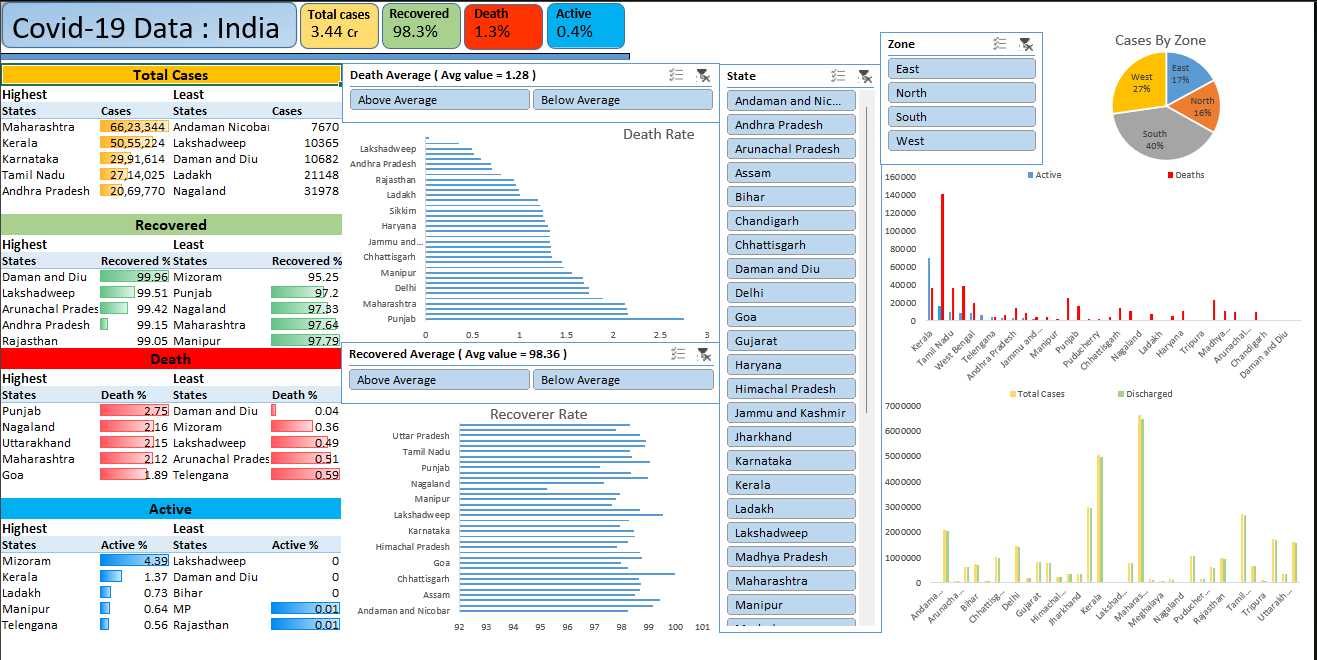

The dashboard page shown, as its layout file describes it:
{"tool":"powerbi","page":{"name":"Page 1","canvas":[1280,720],"ordinal":0},"visuals":[{"type":"cardVisual","fields":{"Data":["Sum(Covid Dataset.Total Cases)"]},"box":[0,70.1,210.4,106],"z":0},{"type":"cardVisual","fields":{"Data":["Sum(Covid Dataset.Active)"]},"box":[210.4,70.1,209,106],"z":1000},{"type":"cardVisual","fields":{"Data":["Sum(Covid Dataset.Discharged)"]},"box":[419.4,70.1,210.4,106],"z":2000},{"type":"cardVisual","fields":{"Data":["Sum(Covid Dataset.Deaths)"]},"box":[629.9,70.1,210.4,106],"z":3000},{"type":"clusteredBarChart","fields":{"Category":["Covid Dataset.State/UTs"],"Y":["Sum(Covid Dataset.Total Cases)"]},"box":[410.4,376.1,429.9,343.3],"z":4000},{"type":"pieChart","fields":{"Category":["Covid Dataset.Zone"],"Y":["Sum(Covid Dataset.Total Cases)"]},"box":[0,176.1,410.4,200],"z":5000},{"type":"barChart","fields":{"Category":["Covid Dataset.State/UTs"],"Y":["Sum(Covid Dataset.Deaths)"]},"box":[0,376.1,410.4,343.3],"z":6000},{"type":"scatterChart","fields":{"Series":["Covid Dataset.State/UTs"],"Size":["Sum(Covid Dataset.Deaths)"],"X":["Sum(Covid Dataset.Population)"],"Y":["Sum(Covid Dataset.Total Cases)"]},"box":[840.3,70.1,440.3,306],"z":7000},{"type":"slicer","fields":{"Values":["Covid Dataset.Zone"]},"box":[658.2,176.1,182.1,200],"z":8000},{"type":"slicer","fields":{"Values":["Covid Dataset.State/UTs"]},"box":[410.4,176.1,247.8,200],"z":9000},{"type":"textbox","box":[0,0,1280.6,70.1],"z":10000},{"type":"clusteredBarChart","fields":{"Category":["Covid Dataset.State/UTs"],"Y":["Sum(Covid Dataset.Discharged)"]},"box":[840.3,376.1,440.3,343.3],"z":10001}]}

Visuals, with their boxes on the page's 1280x720 design canvas (x1, y1, x2, y2). These are canvas units, not pixel positions in the 1317x660 screenshot, which may show the page scaled, cropped or inside an application window:
cardVisual - Sum(Covid Dataset.Total Cases): BBox(0, 70, 210, 176)
cardVisual - Sum(Covid Dataset.Active): BBox(210, 70, 419, 176)
cardVisual - Sum(Covid Dataset.Discharged): BBox(419, 70, 630, 176)
cardVisual - Sum(Covid Dataset.Deaths): BBox(630, 70, 840, 176)
clusteredBarChart - Covid Dataset.State/UTs x Sum(Covid Dataset.Total Cases): BBox(410, 376, 840, 719)
pieChart - Covid Dataset.Zone x Sum(Covid Dataset.Total Cases): BBox(0, 176, 410, 376)
barChart - Covid Dataset.State/UTs x Sum(Covid Dataset.Deaths): BBox(0, 376, 410, 719)
scatterChart - Covid Dataset.State/UTs x Sum(Covid Dataset.Deaths): BBox(840, 70, 1281, 376)
slicer - Covid Dataset.Zone: BBox(658, 176, 840, 376)
slicer - Covid Dataset.State/UTs: BBox(410, 176, 658, 376)
textbox: BBox(0, 0, 1281, 70)
clusteredBarChart - Covid Dataset.State/UTs x Sum(Covid Dataset.Discharged): BBox(840, 376, 1281, 719)
